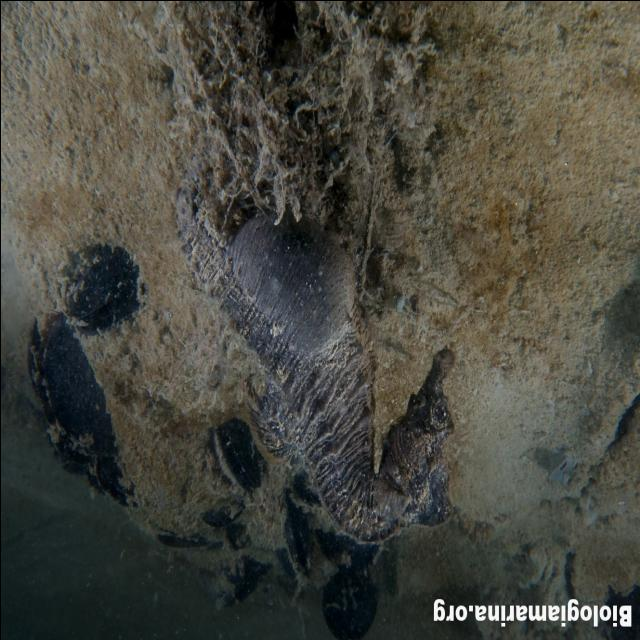Hippo: (374, 341, 466, 535)
